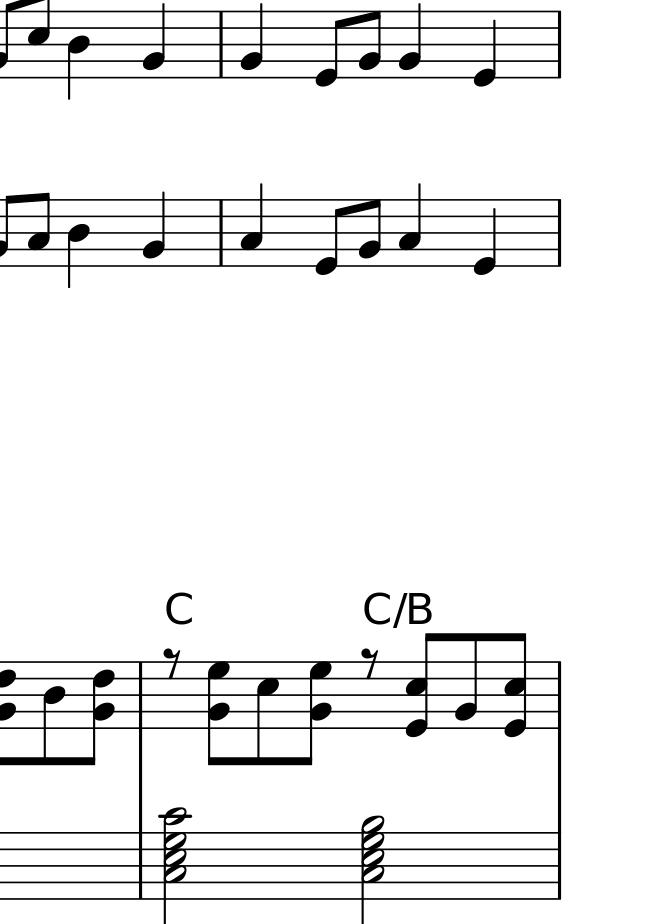2_4th: (157, 805, 187, 924), (359, 814, 385, 924)
4_0: (472, 7, 499, 89), (472, 196, 499, 278)
4_2: (397, 1, 424, 80), (141, 1, 167, 81), (239, 1, 265, 81), (141, 190, 167, 269)
4_3: (239, 183, 265, 267), (397, 184, 422, 266)
4_4: (66, 8, 91, 100), (66, 199, 90, 288)
8_0: (314, 198, 346, 279), (314, 11, 346, 89)
8_0_5: (403, 632, 438, 737), (500, 632, 528, 738)
8_2: (453, 634, 480, 727), (357, 9, 382, 79), (357, 198, 382, 268)
8_2_6: (85, 660, 116, 767)
8_2_7: (300, 659, 333, 769), (206, 660, 232, 768)
8_3: (26, 191, 51, 269)
8_4: (42, 659, 67, 765)
8_5: (253, 658, 280, 767), (26, 1, 51, 79)
Rests8: (360, 646, 382, 680), (163, 647, 183, 679)
Single_barline: (213, 9, 230, 78), (551, 662, 567, 729), (552, 10, 567, 81), (551, 834, 567, 898), (552, 201, 567, 266), (214, 201, 229, 264), (133, 832, 147, 899), (134, 666, 146, 729)
